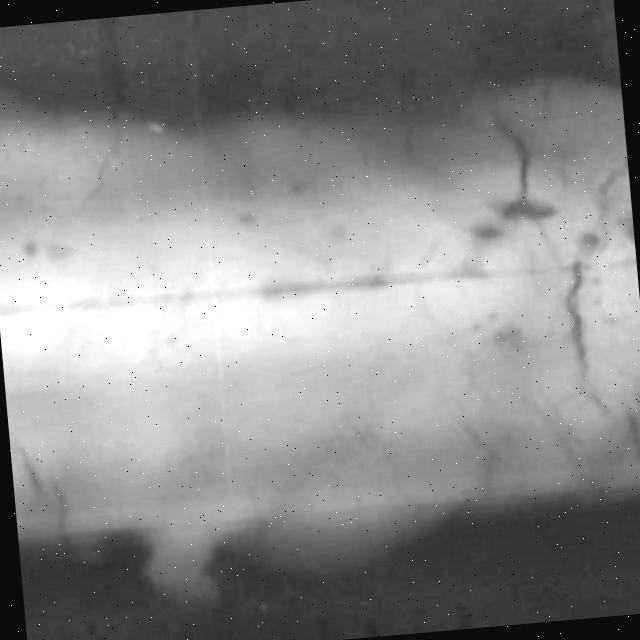Crack: (341, 328, 521, 504), (476, 79, 636, 274), (522, 283, 640, 518), (46, 100, 156, 265), (6, 396, 99, 564)
Pore: (494, 187, 564, 237)
